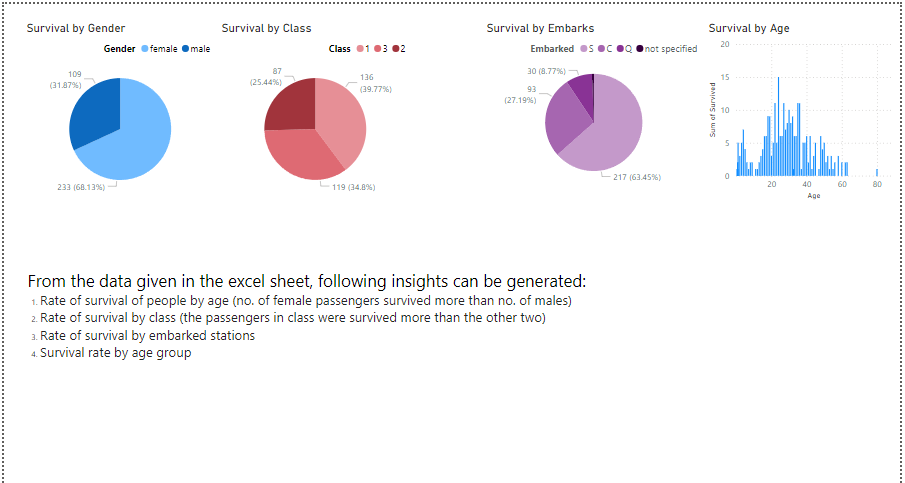

Layout of this report page (visuals, bound fields, positions):
{"tool":"powerbi","page":{"name":"Page 1","canvas":[1280,720],"ordinal":0},"visuals":[{"type":"pieChart","title":"Survival by Gender","fields":{"Category":["train.Sex"],"Y":["Sum(train.Survived)"]},"box":[27.8,24.4,277.8,261.1],"z":0},{"type":"clusteredColumnChart","title":"Survival by Age","fields":{"Category":["train.Age"],"Y":["Sum(train.Survived)"]},"box":[1001.4,24.3,278.6,260],"z":1},{"type":"pieChart","title":"Survival by Class","fields":{"Y":["Sum(train.Survived)"],"Category":["train.Pclass"]},"box":[306,24,278,261],"z":2},{"type":"pieChart","title":"Survival by Embarks","fields":{"Y":["Sum(train.Survived)"],"Category":["train.Embarked"]},"box":[684.4,24.4,316.7,242.2],"z":3},{"type":"textbox","box":[28.6,372.9,1201.4,145.7],"z":4}]}

Visuals, with their boxes on the page's 1280x720 design canvas (x1, y1, x2, y2). These are canvas units, not pixel positions in the 905x483 screenshot, which may show the page scaled, cropped or inside an application window:
"Survival by Gender" pieChart: (x1=28, y1=24, x2=306, y2=286)
"Survival by Age" clusteredColumnChart: (x1=1001, y1=24, x2=1280, y2=284)
"Survival by Class" pieChart: (x1=306, y1=24, x2=584, y2=285)
"Survival by Embarks" pieChart: (x1=684, y1=24, x2=1001, y2=267)
textbox: (x1=29, y1=373, x2=1230, y2=519)
